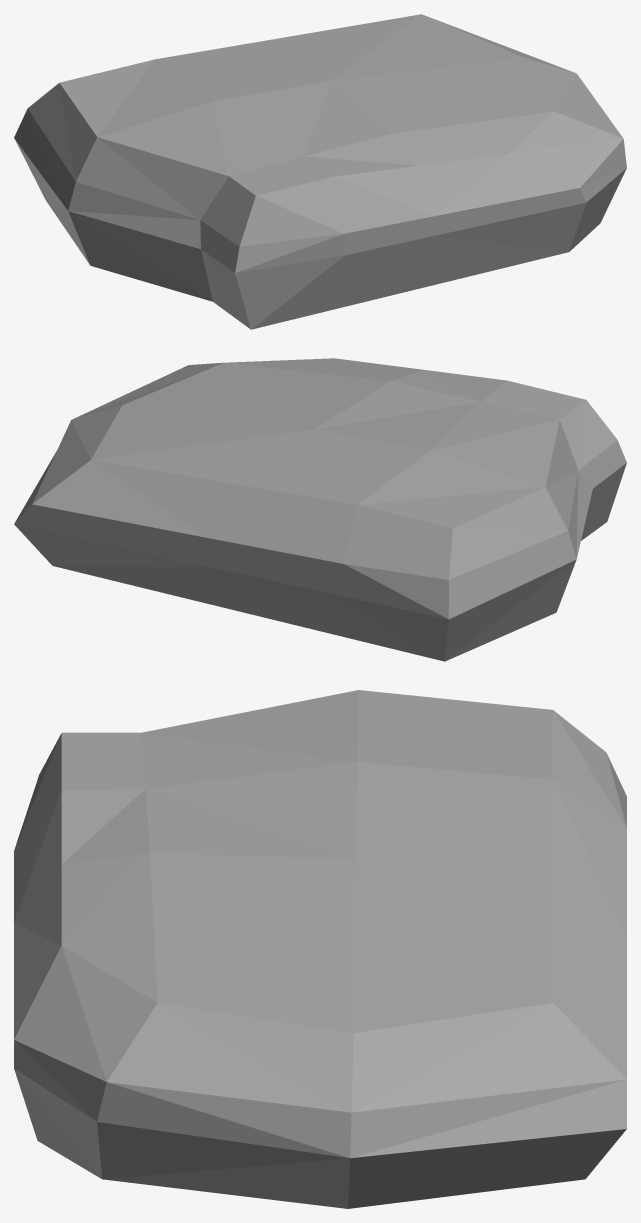
File: Rock_01_vf.FBX
The picture shows the model from 3 angles, top to bottom: view 1: azimuth 30°, elevation 25°; view 2: azimuth 150°, elevation 25°; view 3: azimuth 270°, elevation 25°; orthographic projection. The views are drawn at different scales.
Visible parts, largest first — view 1: Box001; view 2: Box001; view 3: Box001.
Boxes of the visible parts, left/top/right/bottom form: Box001: left=14, top=14, right=626, bottom=329; Box001: left=14, top=358, right=626, bottom=661; Box001: left=14, top=690, right=626, bottom=1208.
Bounding box in the file's own units: 114 × 28.1 × 78.78.
1 material, 1 textured.
